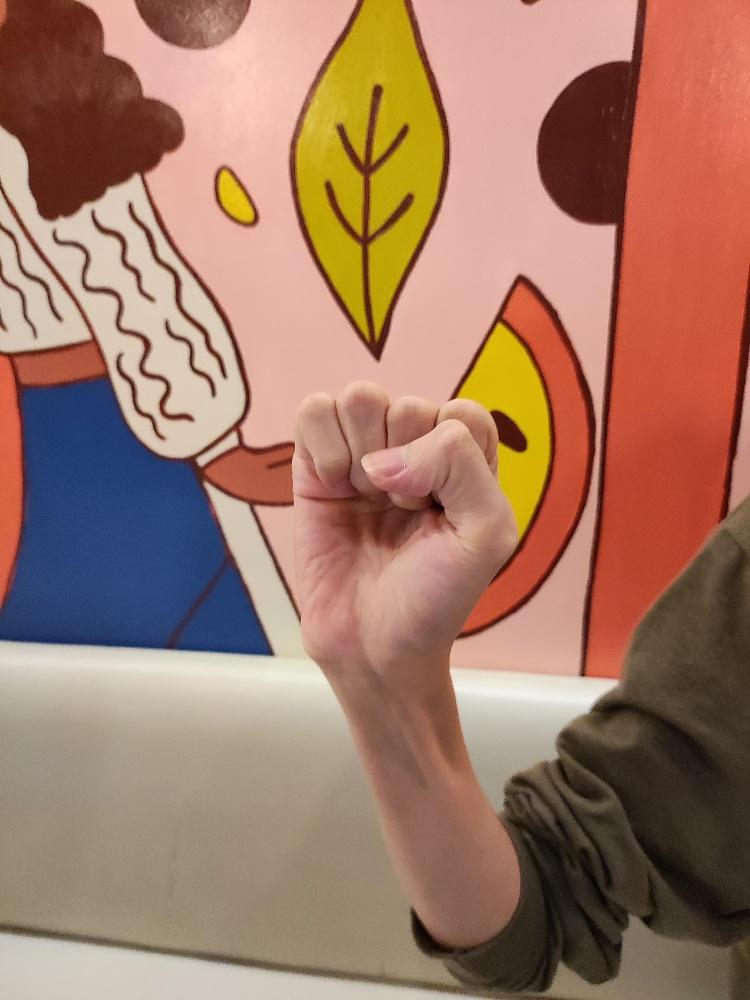s: (287, 375, 523, 662)
